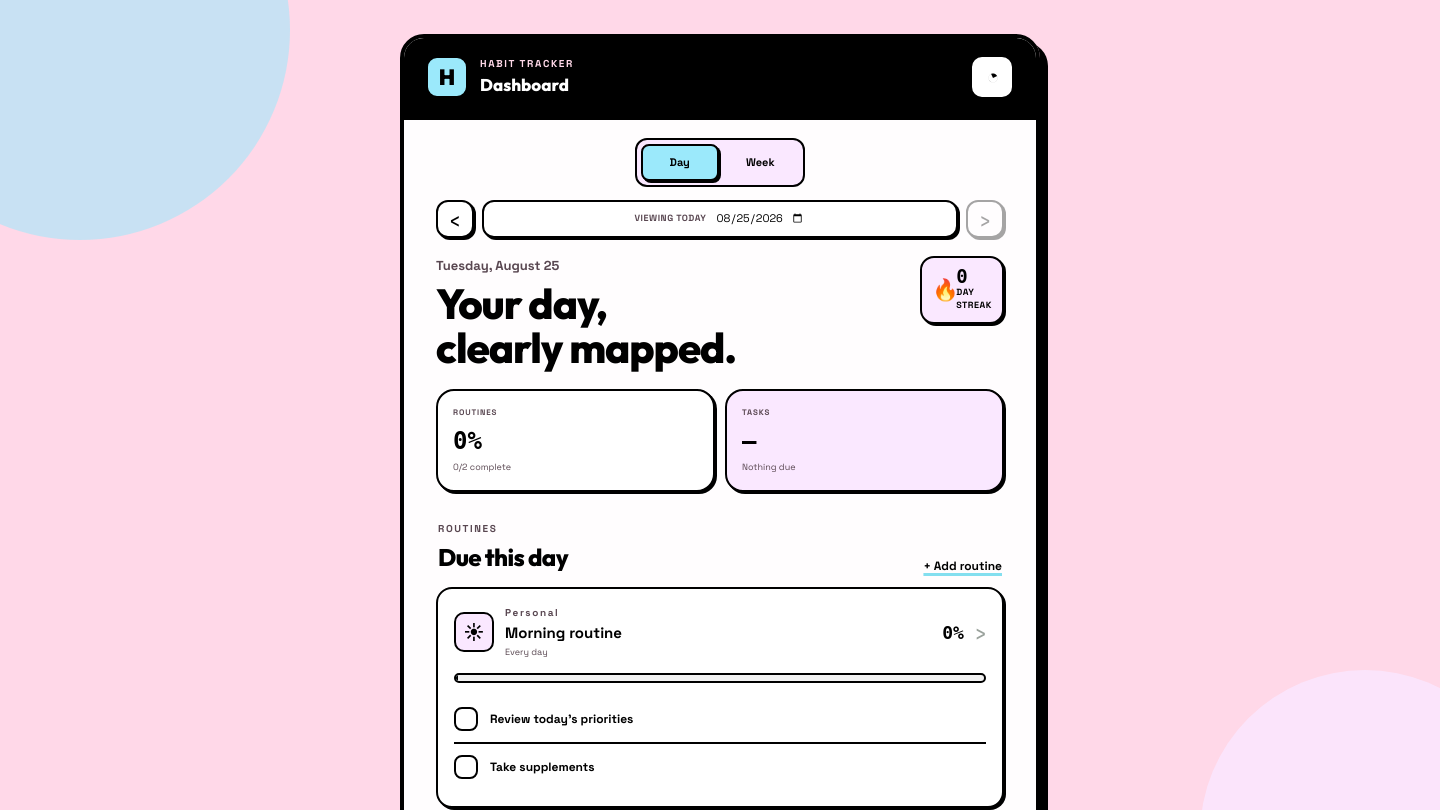
Test: app foundation integration › switches the dashboard between day and week views
Click the button "Week" at (760, 162), box [722,144,799,180]
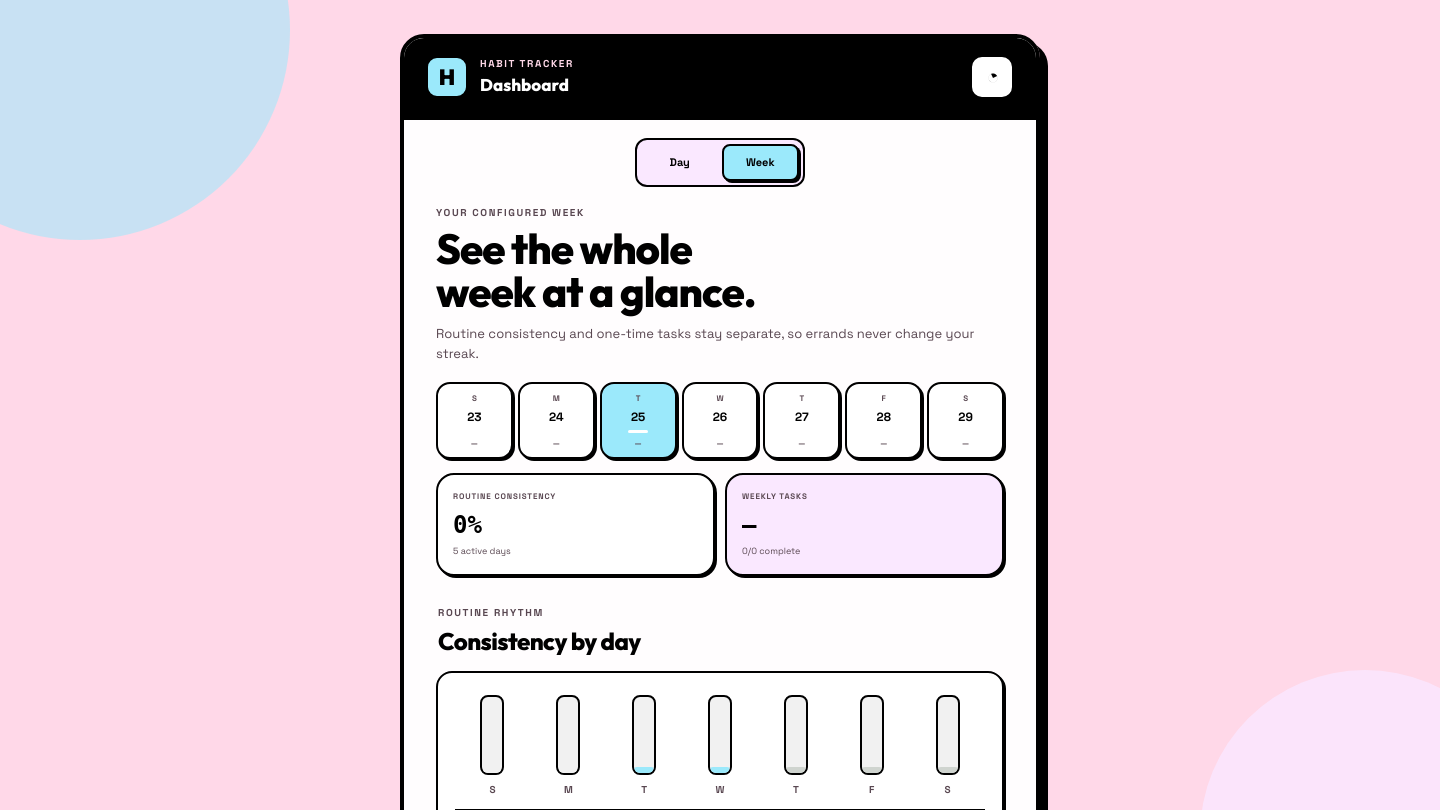
Now the heading "Consistency by day" is shown, box [438,623,641,659]
